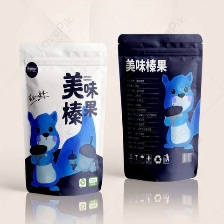snack: (10, 33, 112, 201), (110, 26, 209, 187)
